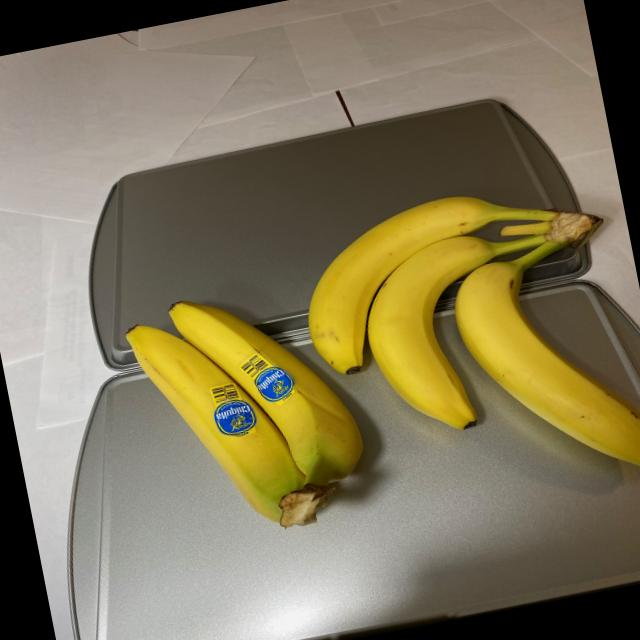banana: (284, 172, 640, 546), (112, 270, 394, 563)
